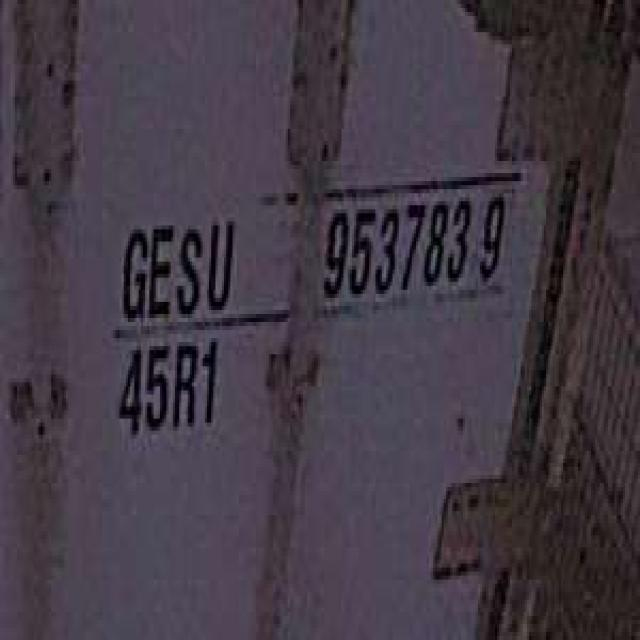dv: (473, 181, 510, 290)
owner: (115, 201, 239, 326)
serial: (316, 185, 471, 310)
size: (111, 330, 222, 447)
